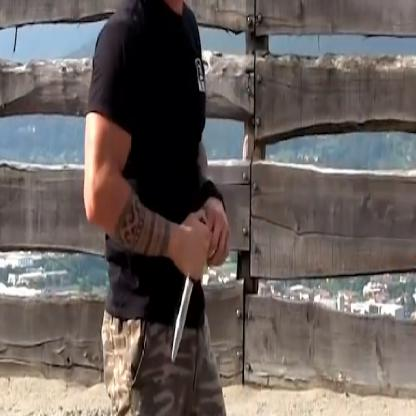knife: (162, 218, 209, 368)
